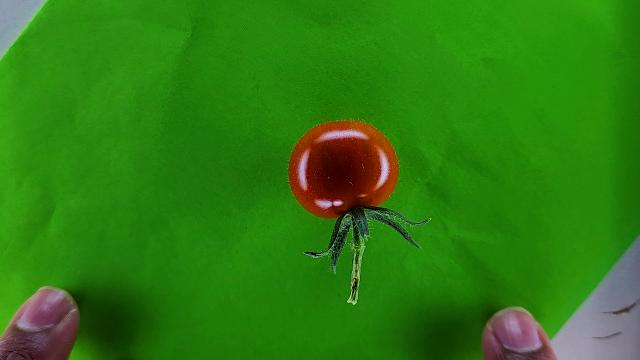Fully Grown: (287, 119, 401, 219)
